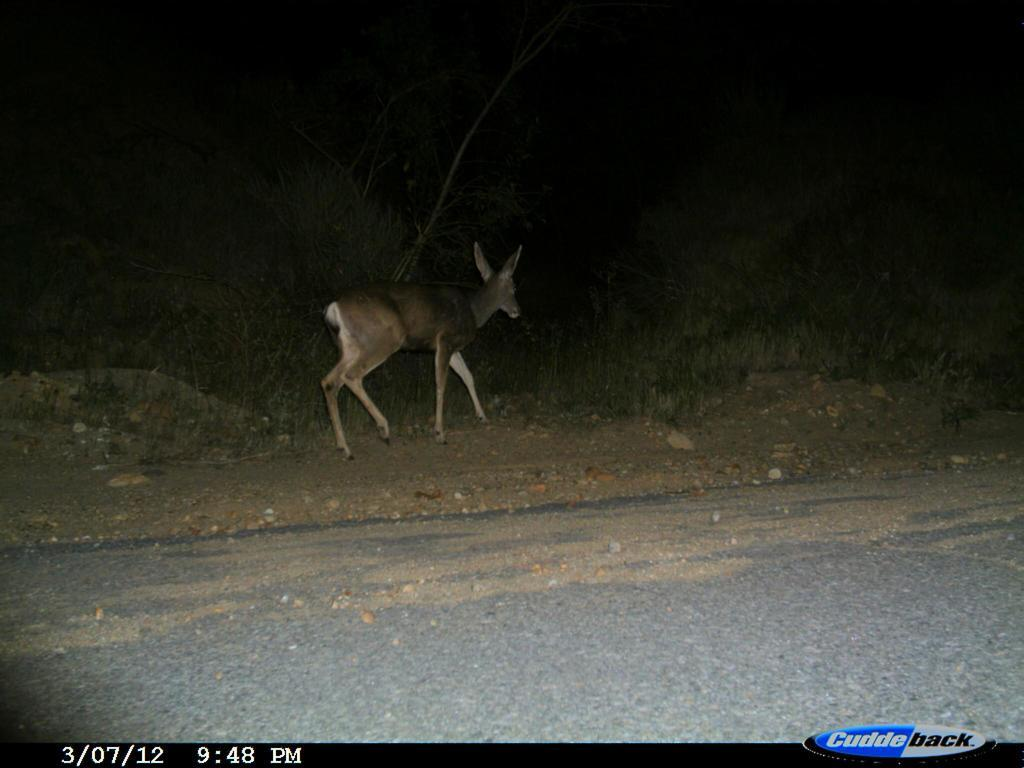deer: (296, 222, 538, 459)
